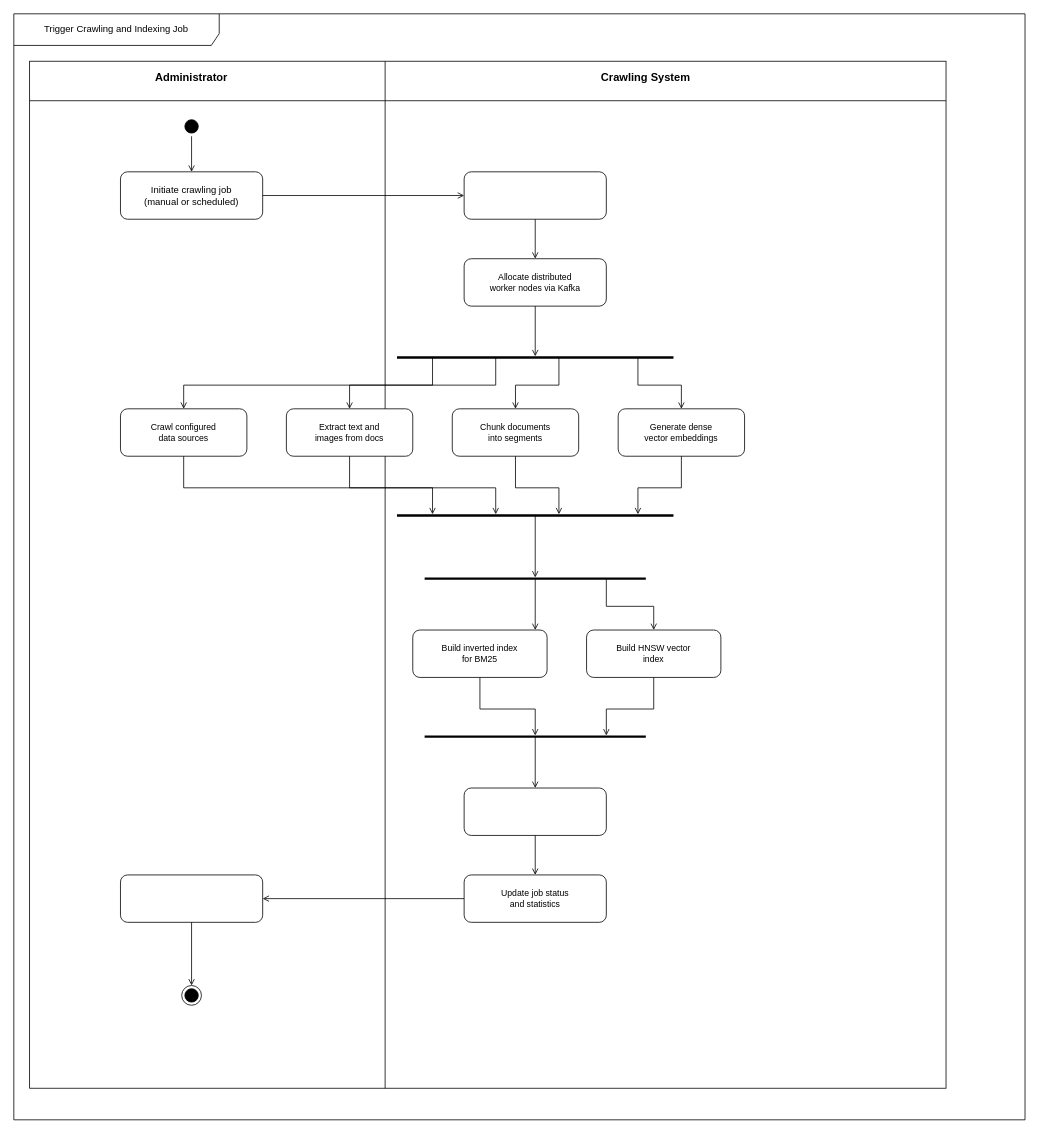
Image size: 1039x1134. Some labels were removed from this diagram. The shapes that lost their labels are listed below. From the top down, each one's box as (x1, y1, x2, y2) in pixels, then its label:
(463, 171, 606, 219): Receive crawling trigger request
(463, 787, 606, 835): Persist indexes to compressed storage
(120, 874, 263, 922): View indexing progress and completion status
